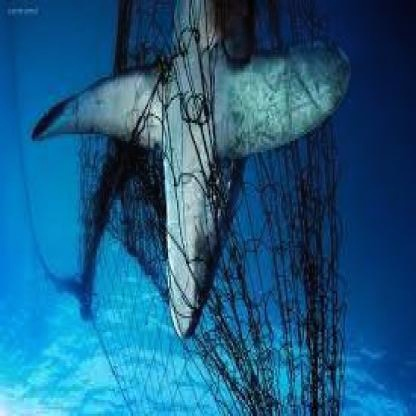net: (97, 2, 351, 416)
